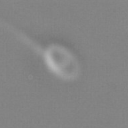normal: (1, 19, 45, 52)
